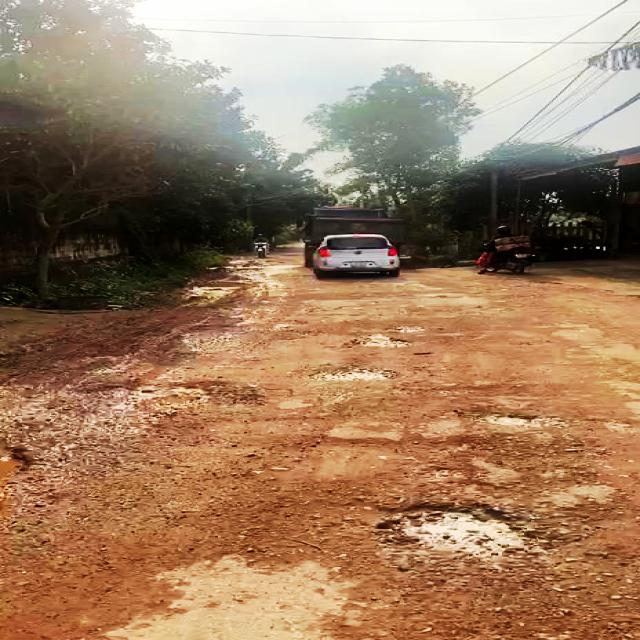pothole: (371, 496, 556, 560), (131, 379, 265, 413), (0, 440, 54, 523), (469, 408, 559, 429), (301, 366, 396, 383), (343, 333, 412, 348)
